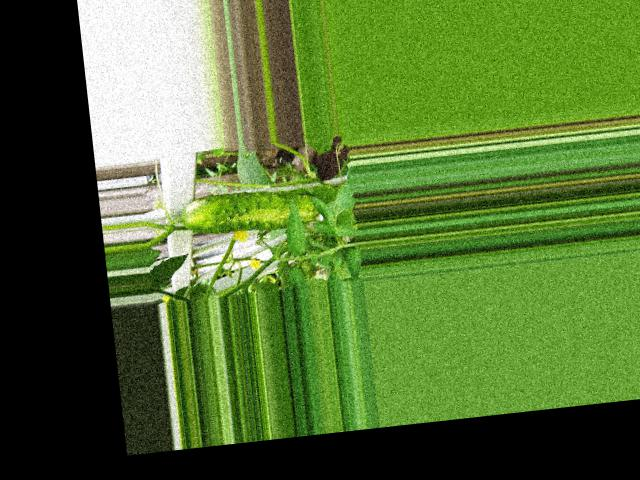cucumber: (179, 183, 319, 237)
